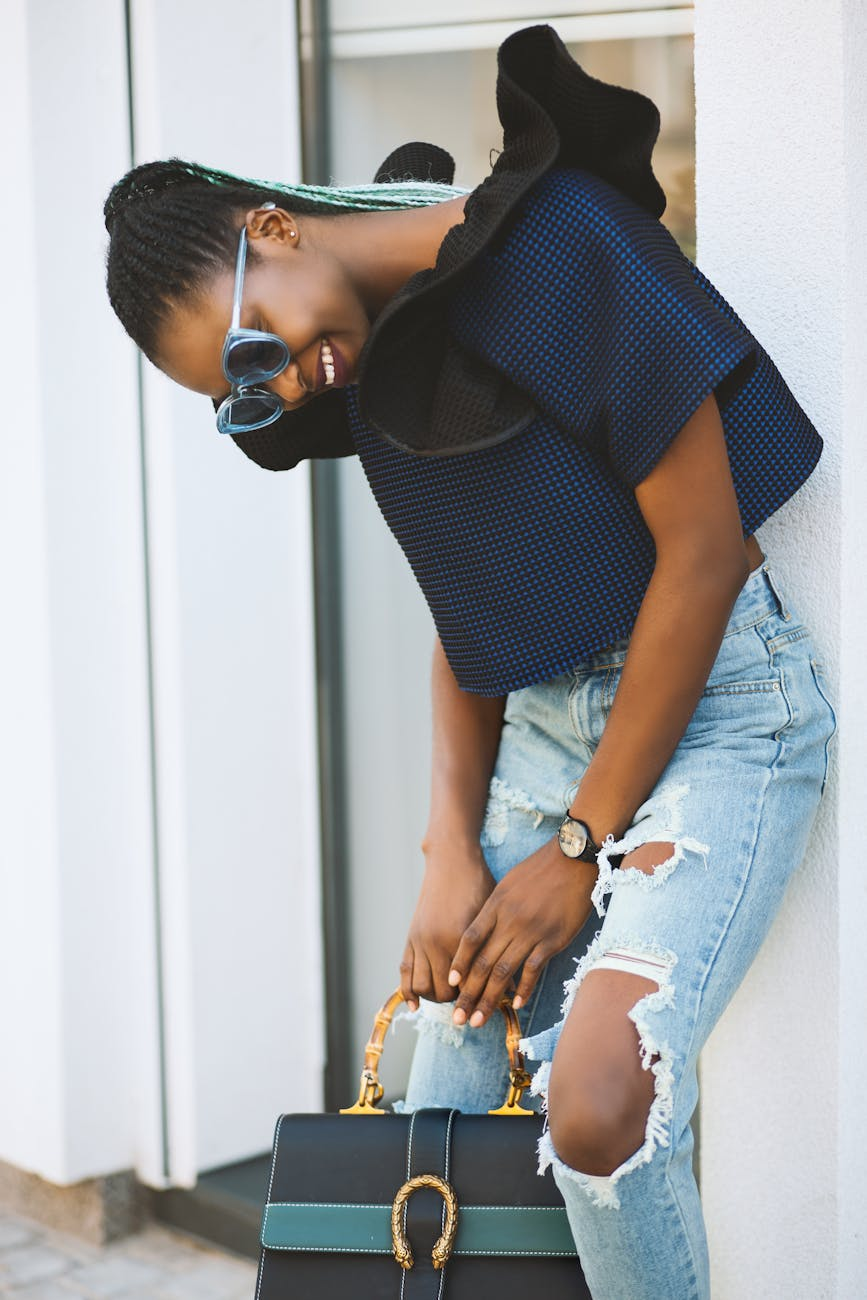ripped_jeans: (415, 673, 792, 1294)
